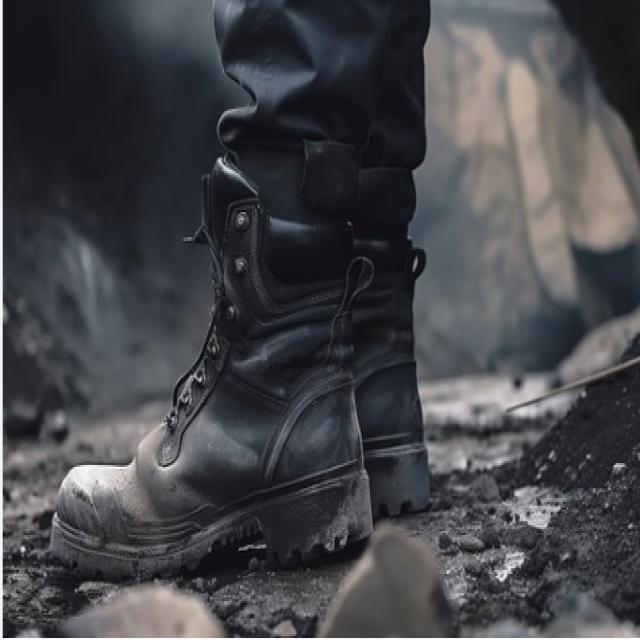boots: (41, 133, 440, 587)
